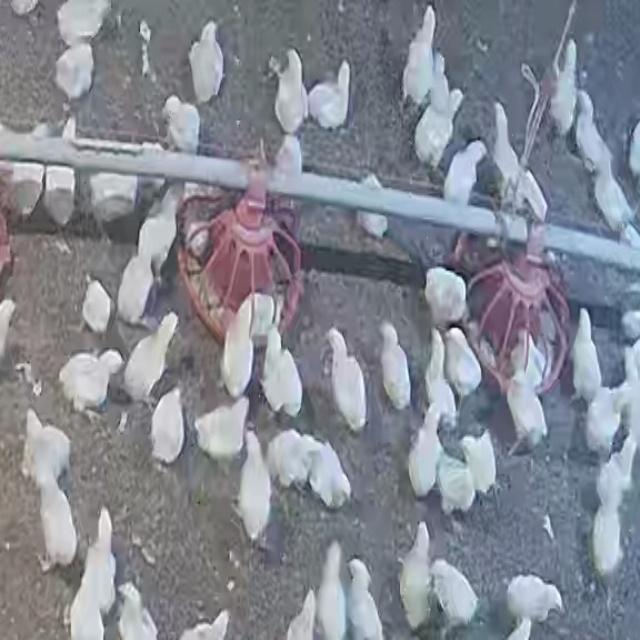chicken: (321, 323, 372, 436), (122, 311, 181, 406), (56, 346, 124, 427), (504, 348, 549, 456), (135, 185, 183, 283), (195, 394, 252, 466), (260, 325, 303, 420), (238, 430, 273, 545), (220, 298, 259, 398), (399, 524, 433, 632), (402, 6, 438, 108), (406, 403, 444, 499), (429, 558, 478, 632), (504, 574, 564, 634), (115, 252, 159, 331), (306, 436, 353, 509), (268, 427, 321, 490), (546, 38, 579, 137), (422, 327, 456, 423), (345, 559, 385, 640), (307, 60, 352, 131), (315, 544, 348, 640), (150, 387, 188, 470), (378, 321, 413, 411), (571, 307, 603, 405), (273, 48, 308, 135), (442, 324, 482, 400), (188, 22, 225, 104), (442, 142, 486, 210), (422, 266, 470, 328), (437, 442, 477, 516), (584, 383, 624, 455), (54, 43, 95, 105), (462, 431, 498, 501), (162, 97, 200, 155), (81, 279, 113, 334), (518, 331, 546, 391), (282, 591, 314, 640), (248, 291, 277, 337)
